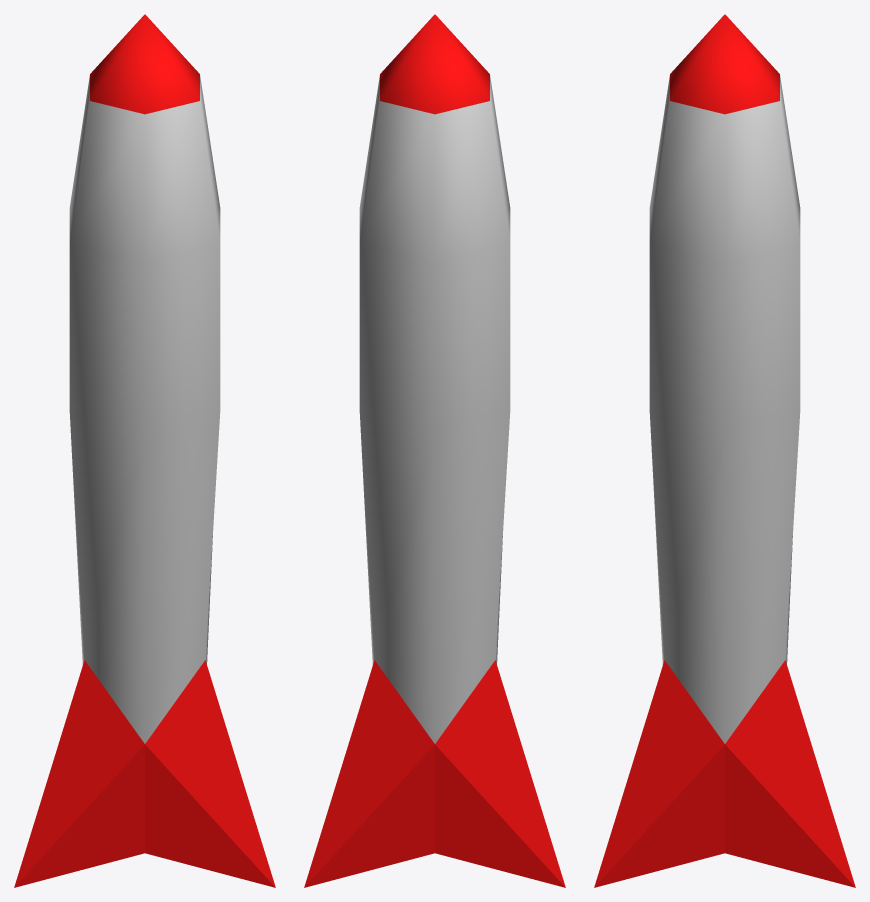
File: rocket.FBX
3 renders of one model, left to right at view 1: azimuth 30°, elevation 25°; view 2: azimuth 150°, elevation 25°; view 3: azimuth 270°, elevation 25°, orthographic.
Parts seen in each view (by area): view 1: Cylinder001; view 2: Cylinder001; view 3: Cylinder001.
Boxes of the visible parts, box(x1,y1,x2,y2) form: Cylinder001: box(14, 14, 275, 887); Cylinder001: box(304, 14, 565, 887); Cylinder001: box(594, 14, 855, 887).
Size of the model in its own units: 37 by 144 by 40.69.
